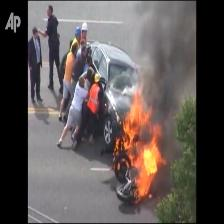fire: (115, 94, 167, 203)
